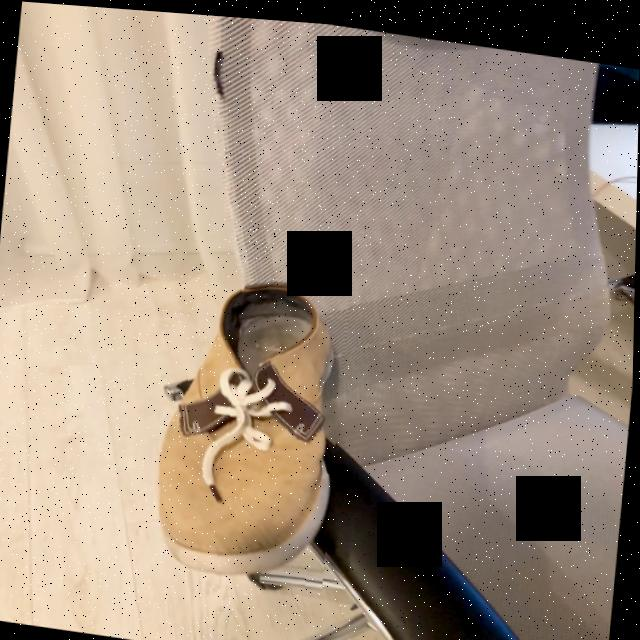shoe: (160, 280, 336, 577)
